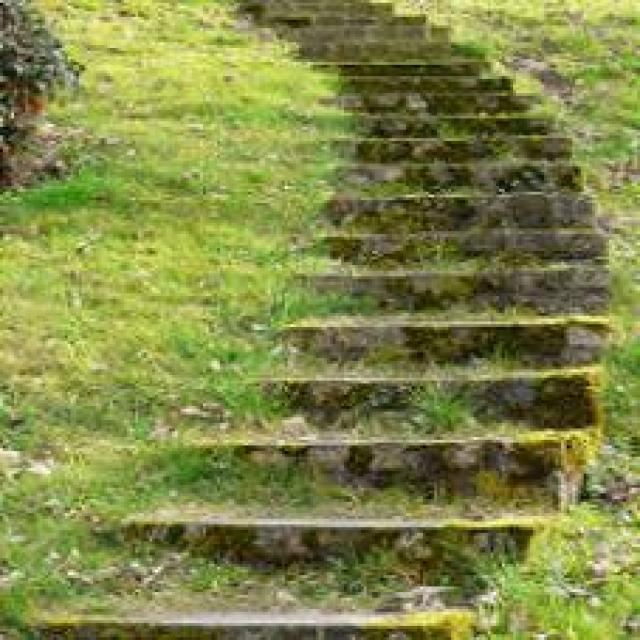stairs: (5, 0, 618, 637)
